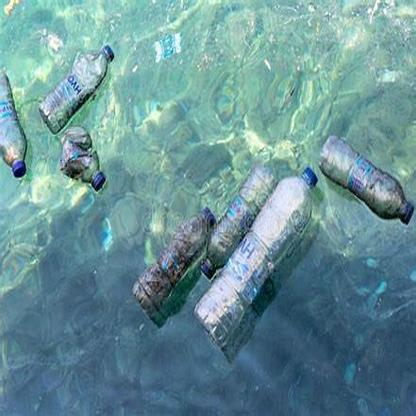plastic bottle: (194, 164, 319, 345), (131, 207, 217, 315), (319, 135, 412, 226), (201, 167, 276, 278), (39, 45, 112, 131), (54, 127, 106, 190), (1, 70, 27, 178)
